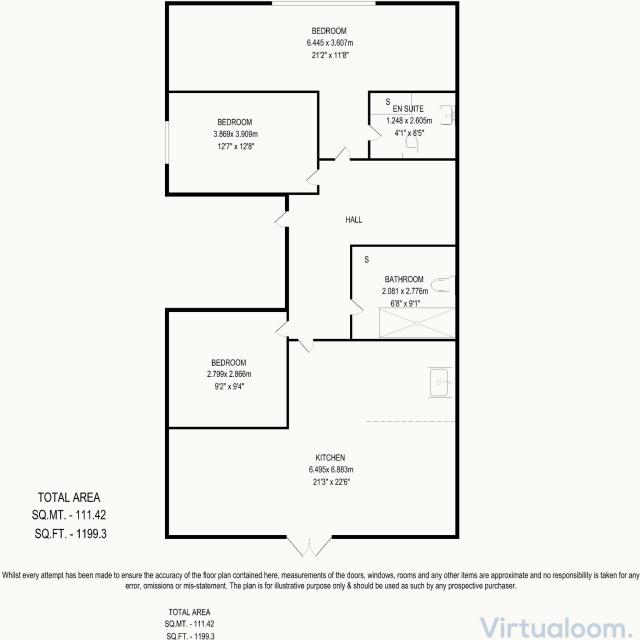DOOR: (273, 210, 289, 228), (297, 338, 314, 354), (350, 298, 365, 316), (274, 320, 289, 337), (305, 169, 320, 186), (334, 146, 350, 161), (368, 124, 382, 141)
DOUBLE DOOR: (283, 534, 334, 562)
ROOM: (165, 339, 460, 557), (165, 1, 460, 161), (165, 90, 320, 197), (165, 308, 289, 429)
WINDOW: (272, 1, 376, 6), (165, 121, 169, 164)
